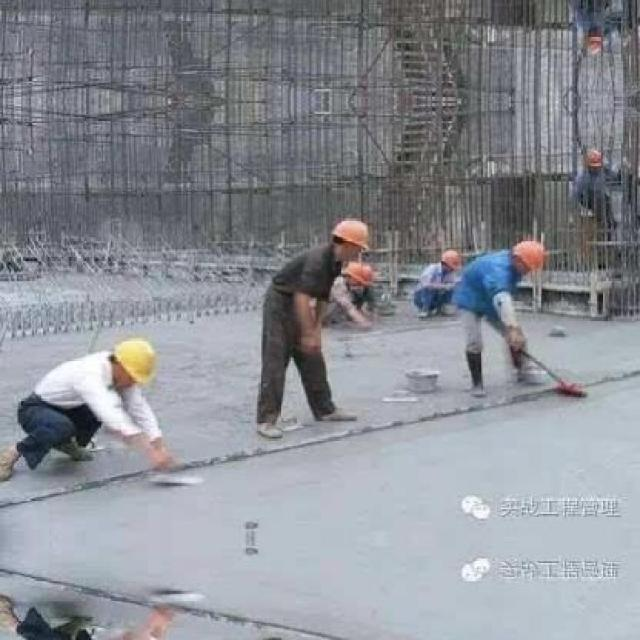helmet: (105, 330, 160, 390), (324, 214, 370, 263), (510, 237, 545, 277), (343, 260, 377, 286), (580, 142, 608, 172), (580, 28, 608, 58), (438, 244, 467, 270)
